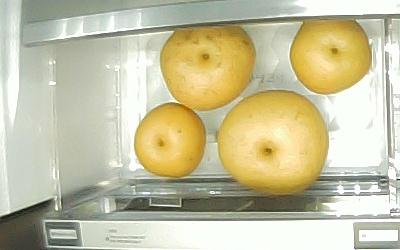pear: (217, 89, 328, 192), (159, 25, 255, 110), (288, 20, 371, 94), (133, 101, 206, 177)
